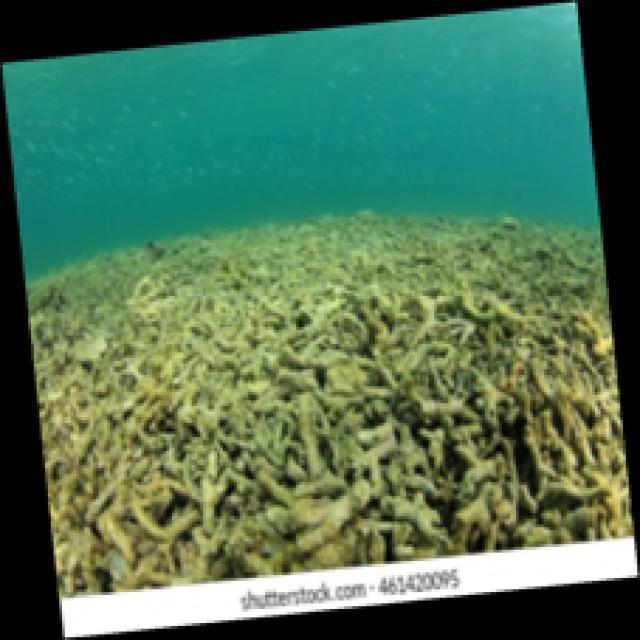Dead Coral: (71, 287, 369, 552), (376, 264, 614, 526)
